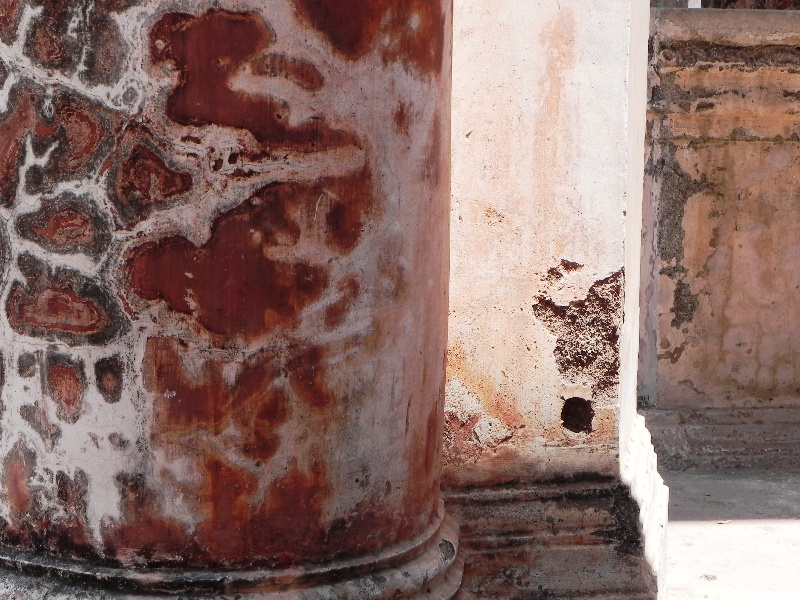Spalling: (530, 240, 629, 392)
